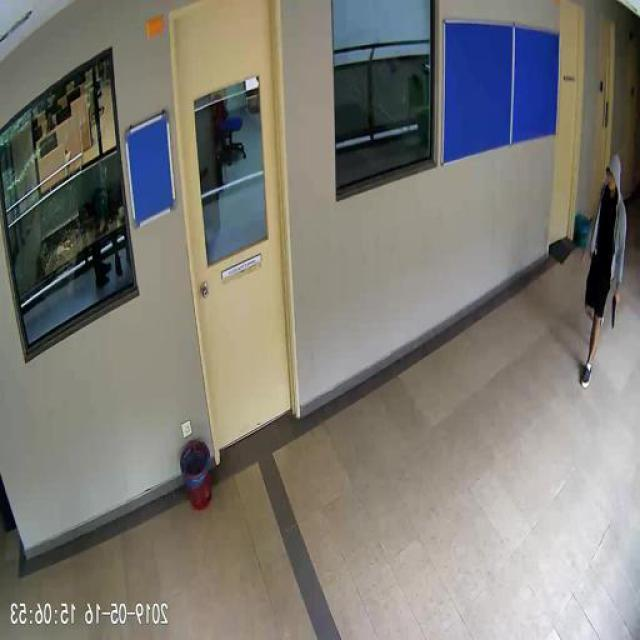Gun: (612, 291, 622, 329)
